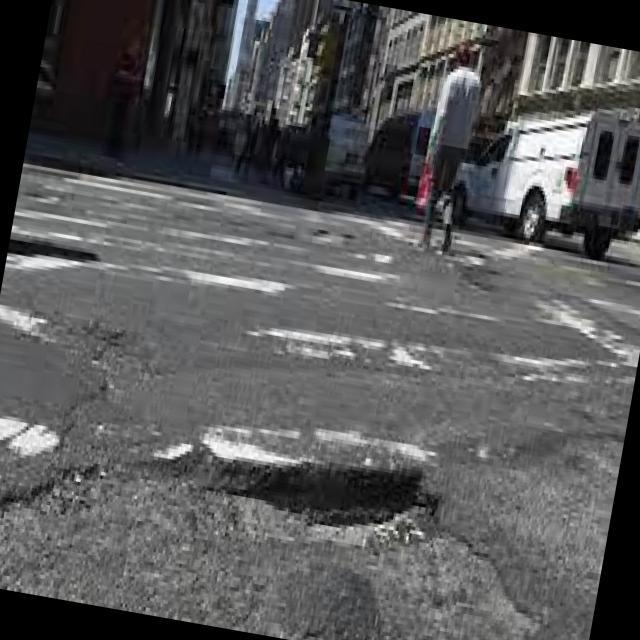Pothole: (211, 431, 434, 530)
